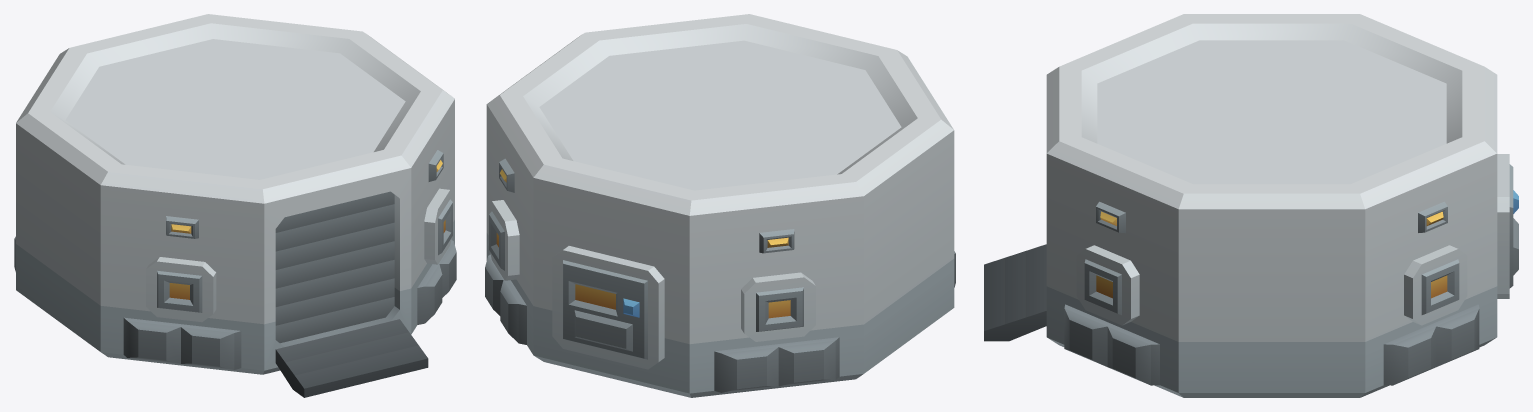
Rendered from basemodule_garage.gltf.
3 views of the same model, side by side, from view 1: azimuth 30°, elevation 25°; view 2: azimuth 150°, elevation 25°; view 3: azimuth 270°, elevation 25° (orthographic). The views are drawn at different scales.
Parts seen in each view (by area): view 1: basemodule_garage, basemodule_garage_door; view 2: basemodule_garage; view 3: basemodule_garage.
Boxes of the visible parts, <box> form: basemodule_garage: <box>14,14,456,397</box>; basemodule_garage_door: <box>275,191,394,343</box>; basemodule_garage: <box>485,14,955,397</box>; basemodule_garage: <box>984,14,1518,397</box>.
Size of the model in its own units: 2 by 1 by 2.37.
Materials: 1 (1 with a texture image).
